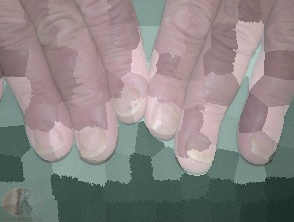Nail_psoriasis: (107, 84, 149, 125), (155, 93, 191, 136), (74, 125, 113, 163), (32, 128, 66, 157), (250, 133, 278, 162), (184, 140, 214, 166)
